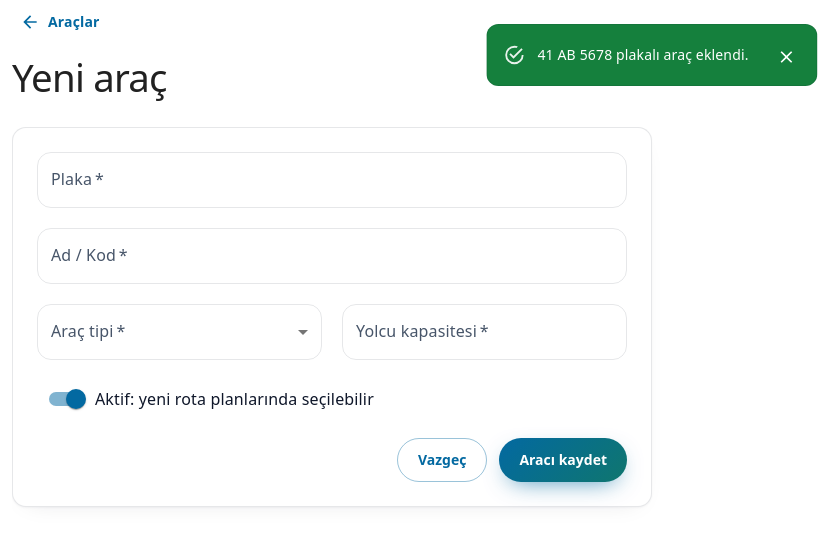
Yeni araç ekleme akışı › kaydet butonuna art arda basılsa da tek istek gönderir
Type "41 AB 5678" into the field labelled "Plaka *" at (332, 180), box [37,152,627,208]
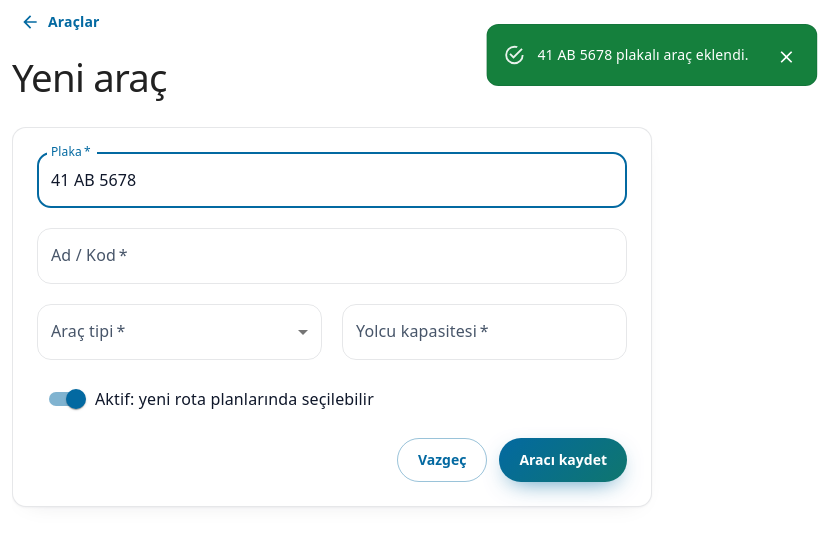
Type "SRV-06" into the field labelled "Ad / Kod *" at (332, 256), box [37,228,627,284]
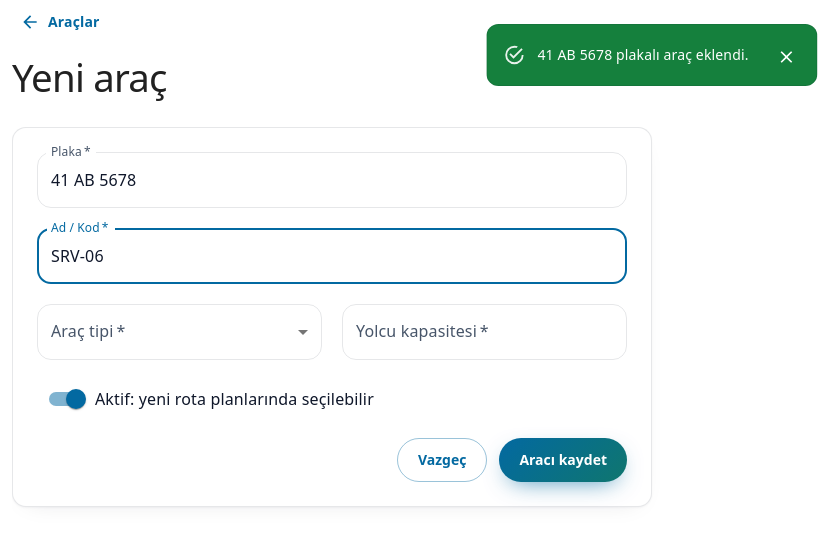
Click the dropdown named "Araç tipi" at (180, 332), box [37,304,322,360]
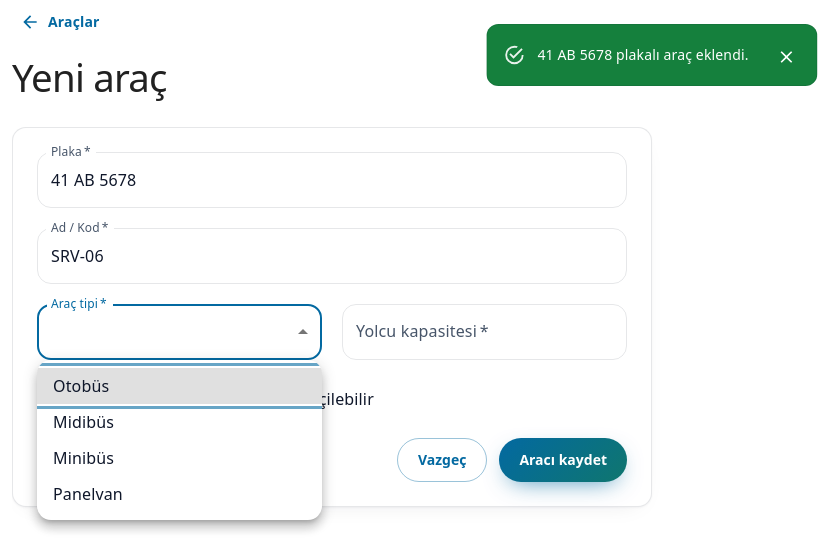
Click the option "Panelvan" at (88, 494), box [53,483,123,505]
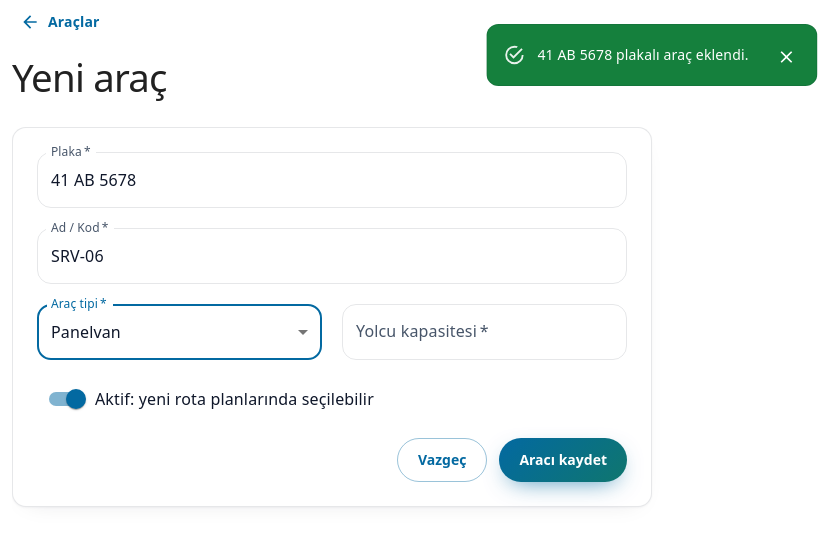
Type "12" into the number field labelled "Yolcu kapasitesi *" at (484, 332), box [342,304,627,360]
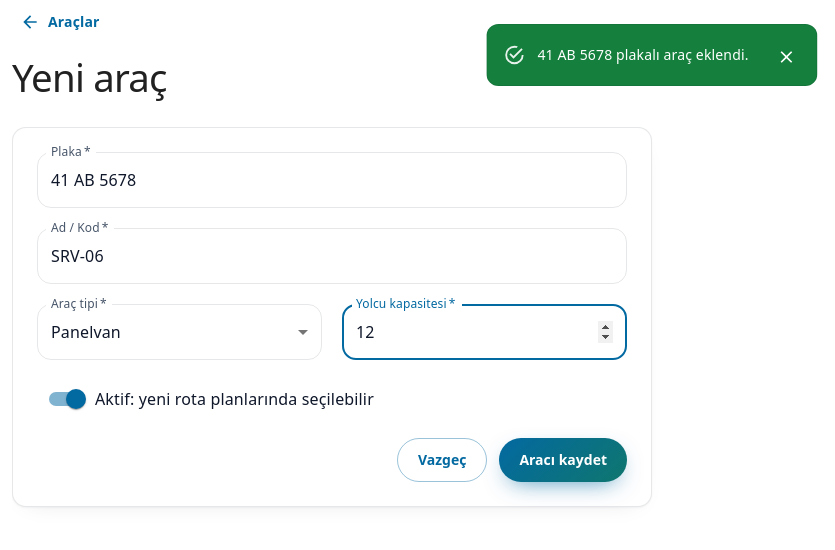
Double-click the button "Aracı kaydet" at (563, 460), box [499,438,627,482]
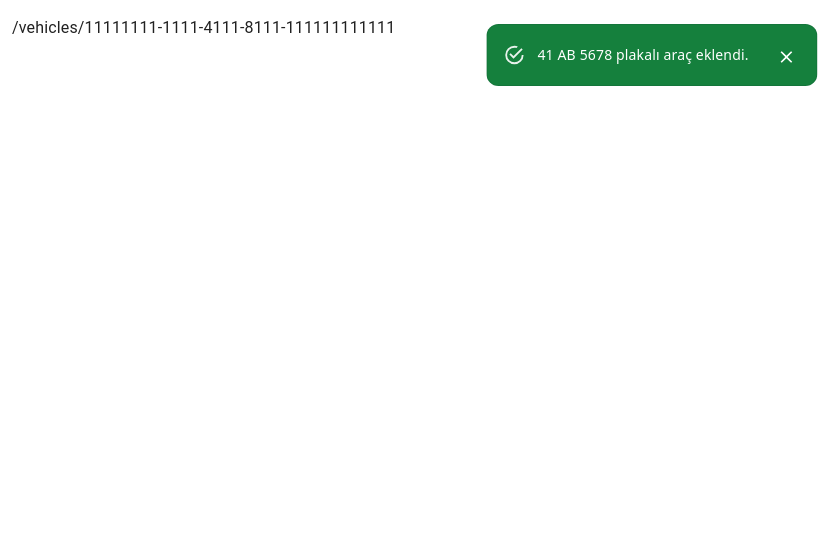
Check: the text "/vehicles/11111111-1111-4111-8111-111111111111" is shown, box [12,18,395,37]
